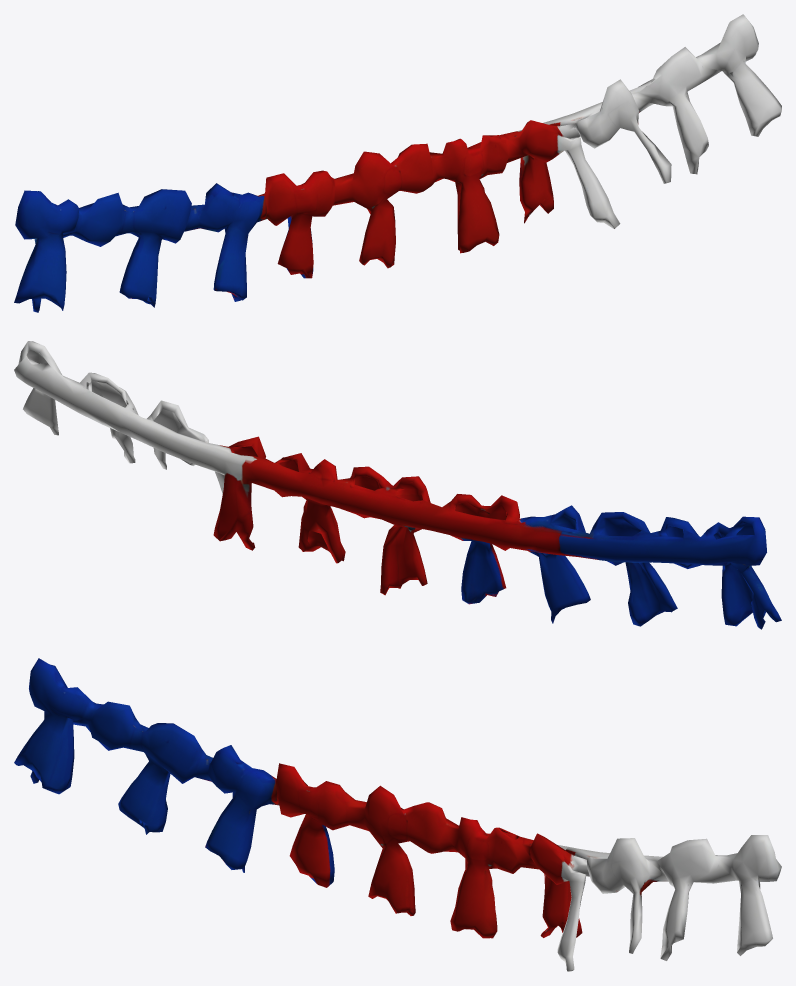
The model's file is guirnalda_de_lazos.fbx.
3 renders of one model, top to bottom at view 1: azimuth 30°, elevation 25°; view 2: azimuth 150°, elevation 25°; view 3: azimuth 330°, elevation 25°, orthographic.
Visible parts, largest first — view 1: tripo_node_30ba1df0; view 2: tripo_node_30ba1df0; view 3: tripo_node_30ba1df0.
Part boxes in pixels (left/top/right/bottom): tripo_node_30ba1df0: left=14, top=14, right=781, bottom=312; tripo_node_30ba1df0: left=14, top=341, right=781, bottom=629; tripo_node_30ba1df0: left=14, top=658, right=781, bottom=971.
Size of the model in its own units: 99.22 by 20.78 by 9.32.
Materials: 1 (1 with a texture image).
